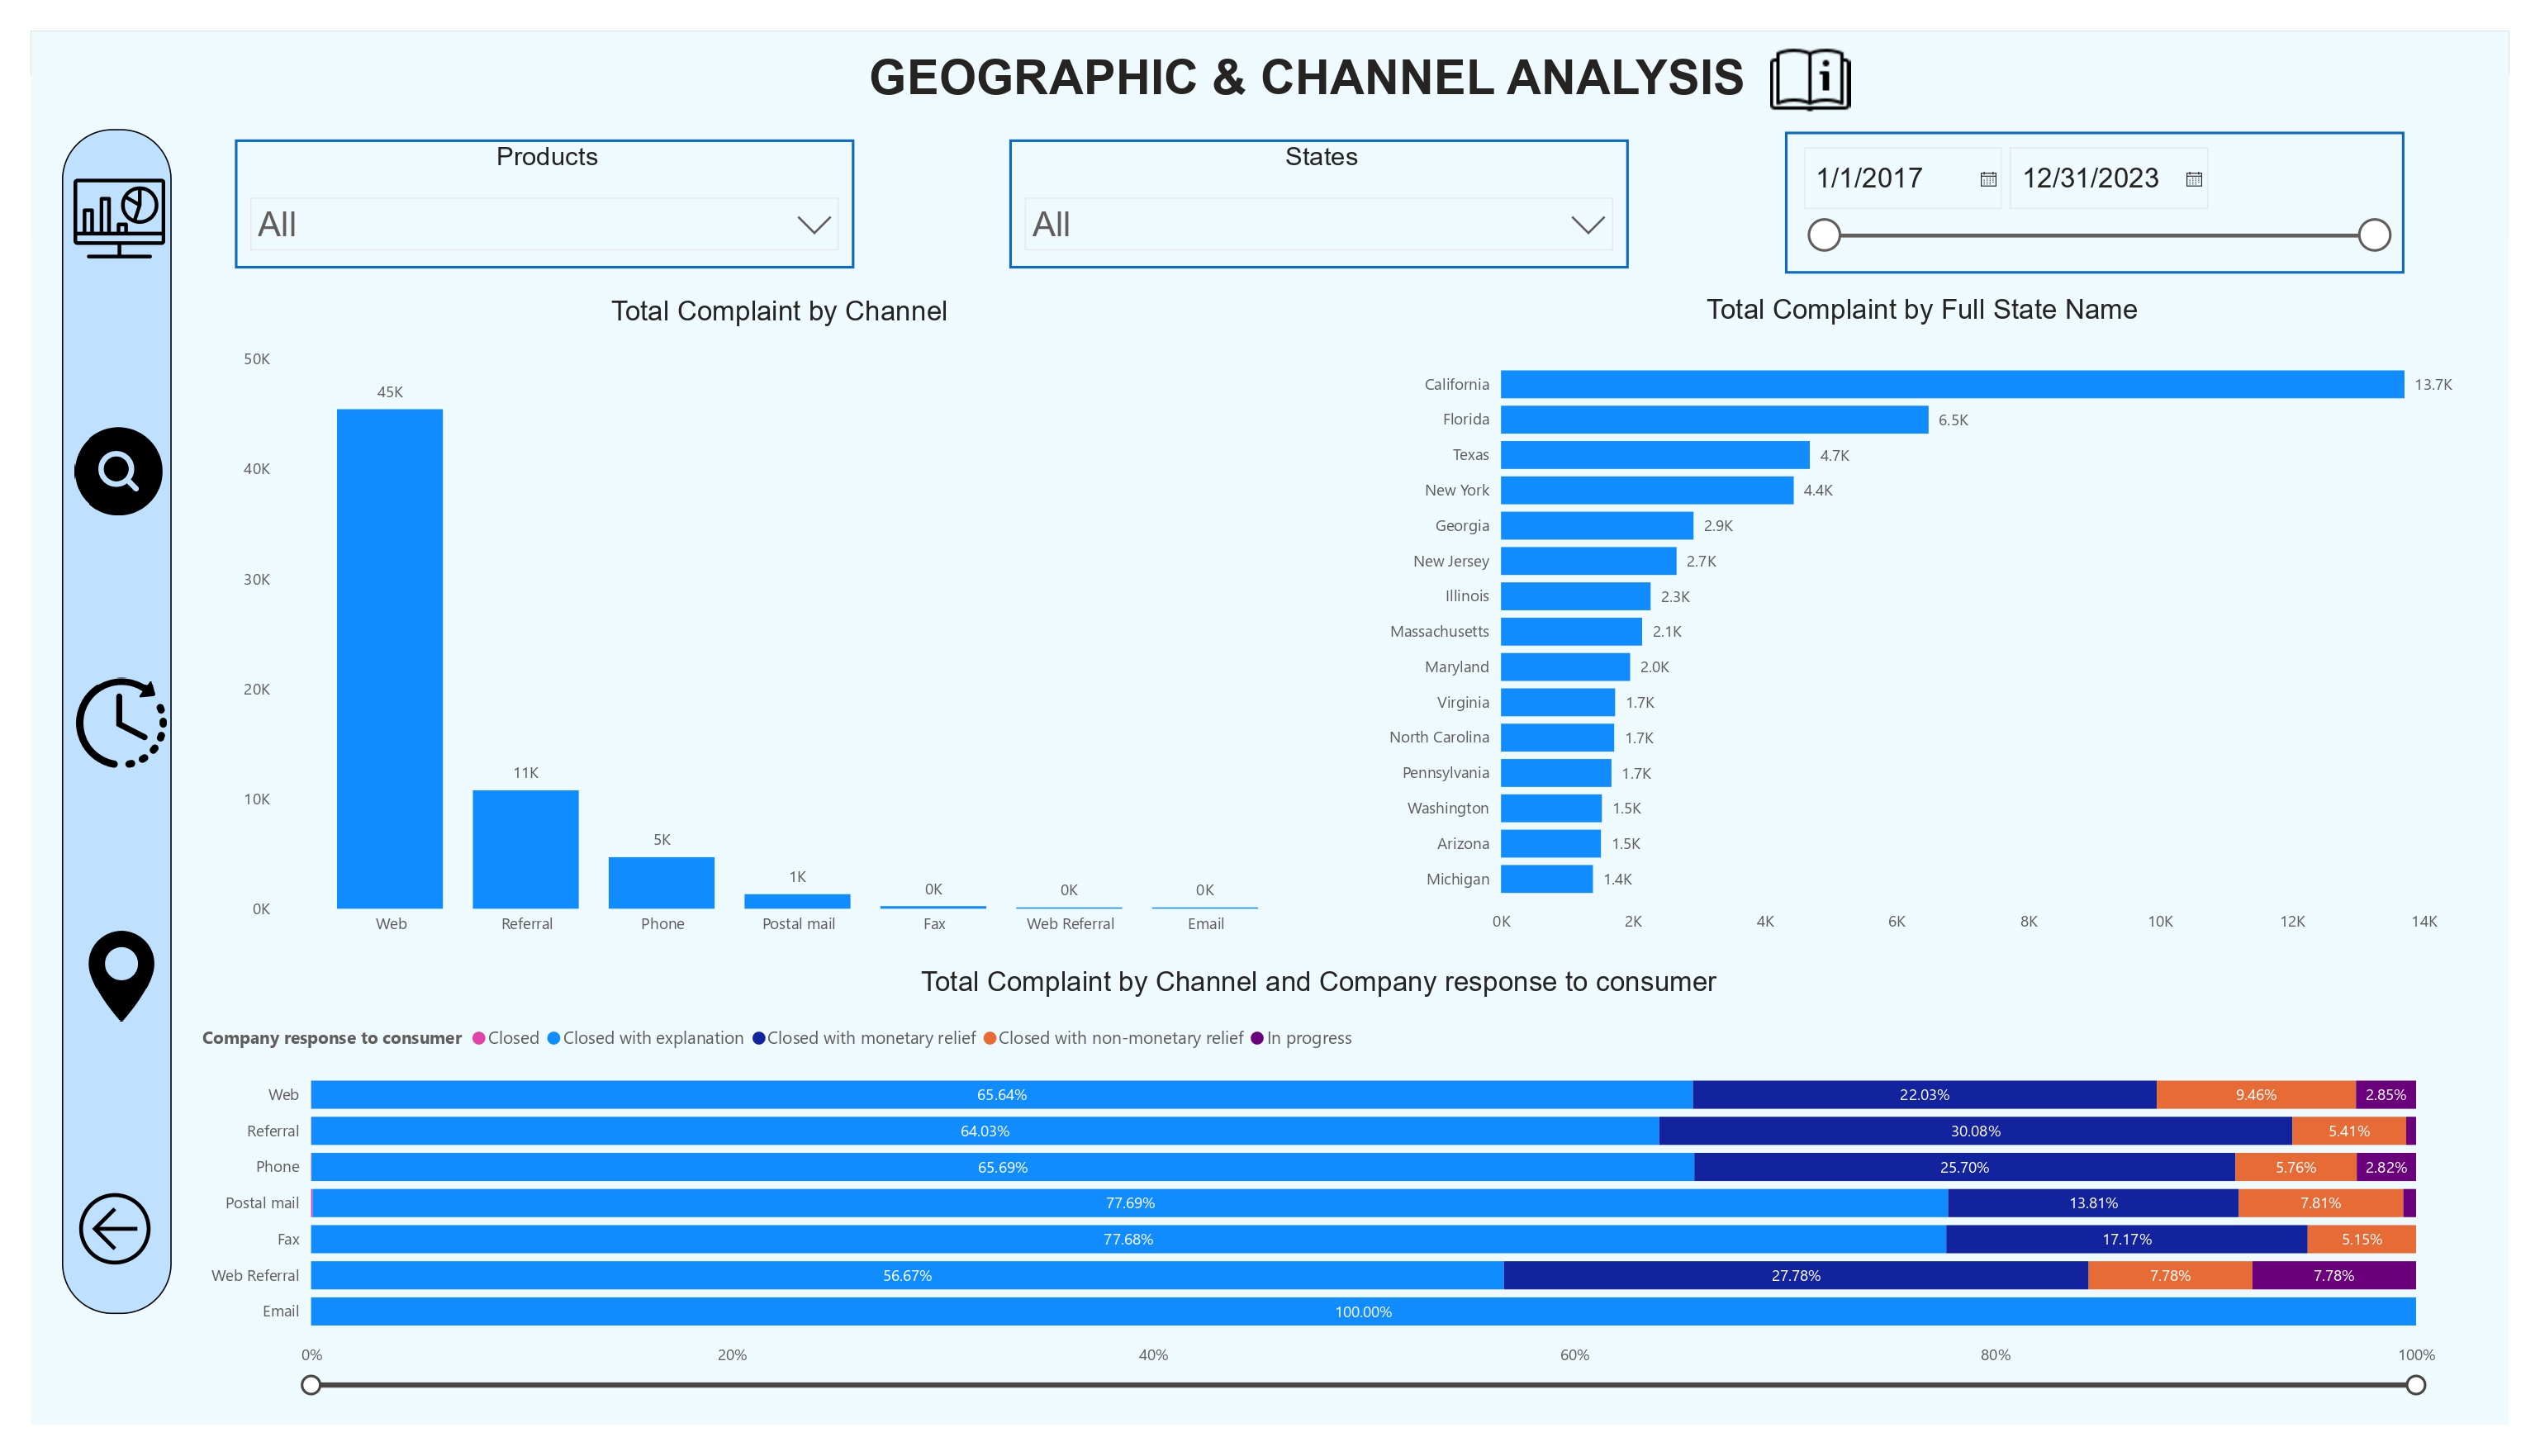

This screenshot's page, from the dashboard's own definition file:
{"tool":"powerbi","page":{"name":"GEOGRAPHY & CHANNEL","canvas":[1920,1080],"ordinal":4},"visuals":[{"type":"textbox","box":[617.5,10,742.5,52.5],"z":0},{"type":"shape","box":[23.8,75.6,85,918],"z":1000},{"type":"image","box":[32.5,110,71.3,71.3],"z":3000},{"type":"image","box":[35,500.6,70,70],"z":4000},{"type":"image","box":[35,696.6,70,70],"z":5000},{"type":"image","box":[32.5,307.2,70,67.5],"z":6000},{"type":"actionButton","box":[30,892.5,72.5,70],"z":7000},{"type":"slicer","title":"Date Range","fields":{"Values":["Dim_Date.Date"]},"box":[1358.8,77.6,480,110.2],"z":8000},{"type":"slicer","title":"States","fields":{"Values":["Dim_State.Full State Name"]},"box":[758.3,84,480,100],"z":9000},{"type":"slicer","title":"Products","fields":{"Values":["Dim_Product.Product"]},"box":[157.8,84,480,100],"z":10000},{"type":"clusteredBarChart","fields":{"Category":["Dim_State.Full State Name"],"Y":["Fact_Customer_Complaint.Total Complaint"]},"box":[1040.4,203.8,850.1,504.1],"z":11000},{"type":"hundredPercentStackedBarChart","title":"Total Complaint by Channel and Company response to consumer","fields":{"Category":["Fact_Customer_Complaint.Submitted via"],"Series":["Fact_Customer_Complaint.Company response to consumer"],"Y":["Fact_Customer_Complaint.Total Complaint"]},"box":[127.5,725,1740,335],"z":12000},{"type":"clusteredColumnChart","title":"Total Complaint by Channel","fields":{"Category":["Fact_Customer_Complaint.Submitted via"],"Y":["Fact_Customer_Complaint.Total Complaint"]},"box":[160,205,840,505],"z":13000},{"type":"image","box":[1347.5,0,62.5,75],"z":13001}]}

Visuals, with their boxes on the page's 1920x1080 design canvas (x1, y1, x2, y2). These are canvas units, not pixel positions in the 2540x1456 screenshot, which may show the page scaled, cropped or inside an application window:
textbox: {"left": 618, "top": 10, "right": 1360, "bottom": 62}
shape: {"left": 24, "top": 76, "right": 109, "bottom": 994}
image: {"left": 32, "top": 110, "right": 104, "bottom": 181}
image: {"left": 35, "top": 501, "right": 105, "bottom": 571}
image: {"left": 35, "top": 697, "right": 105, "bottom": 767}
image: {"left": 32, "top": 307, "right": 102, "bottom": 375}
actionButton: {"left": 30, "top": 892, "right": 102, "bottom": 962}
"Date Range" slicer: {"left": 1359, "top": 78, "right": 1839, "bottom": 188}
"States" slicer: {"left": 758, "top": 84, "right": 1238, "bottom": 184}
"Products" slicer: {"left": 158, "top": 84, "right": 638, "bottom": 184}
clusteredBarChart - Dim_State.Full State Name x Fact_Customer_Complaint.Total Complaint: {"left": 1040, "top": 204, "right": 1890, "bottom": 708}
"Total Complaint by Channel and Company response to consumer" hundredPercentStackedBarChart: {"left": 128, "top": 725, "right": 1868, "bottom": 1060}
"Total Complaint by Channel" clusteredColumnChart: {"left": 160, "top": 205, "right": 1000, "bottom": 710}
image: {"left": 1348, "top": 0, "right": 1410, "bottom": 75}
